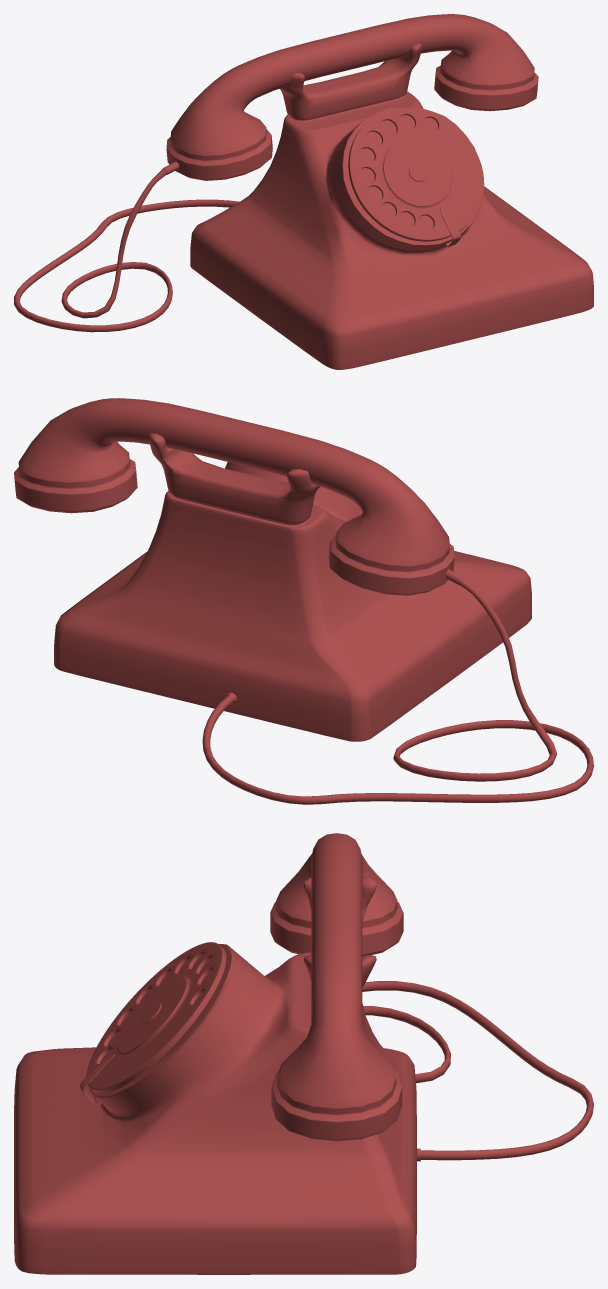
Rendered from Phone_001.fbx.
3 renders of one model, top to bottom at view 1: azimuth 30°, elevation 25°; view 2: azimuth 150°, elevation 25°; view 3: azimuth 270°, elevation 25°, orthographic. The views are drawn at different scales.
Visible parts, largest first — view 1: Phone_001; view 2: Phone_001; view 3: Phone_001.
Part boxes in pixels (x1,y1,x2,y2): Phone_001: (14,14,593,369); Phone_001: (14,398,593,804); Phone_001: (14,833,593,1274).
Size of the model in its own units: 30 by 12.78 by 22.84.
